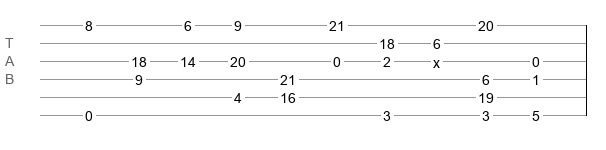0: (85, 108, 93, 118), (333, 54, 341, 64), (532, 54, 540, 64)
1: (532, 72, 540, 82)
14: (180, 54, 196, 64)
16: (280, 90, 296, 100)
18: (131, 54, 147, 64), (379, 36, 395, 46)
19: (478, 90, 494, 100)
2: (383, 54, 391, 64)
20: (230, 54, 246, 64), (478, 18, 494, 28)
21: (280, 72, 296, 82), (329, 18, 345, 28)
3: (383, 108, 391, 118), (482, 108, 490, 118)
4: (234, 90, 242, 100)
5: (532, 108, 540, 118)
6: (184, 18, 192, 28), (433, 36, 441, 46), (482, 72, 490, 82)
8: (85, 18, 93, 28)
9: (135, 72, 143, 82), (234, 18, 242, 28)
x: (433, 55, 440, 63)
